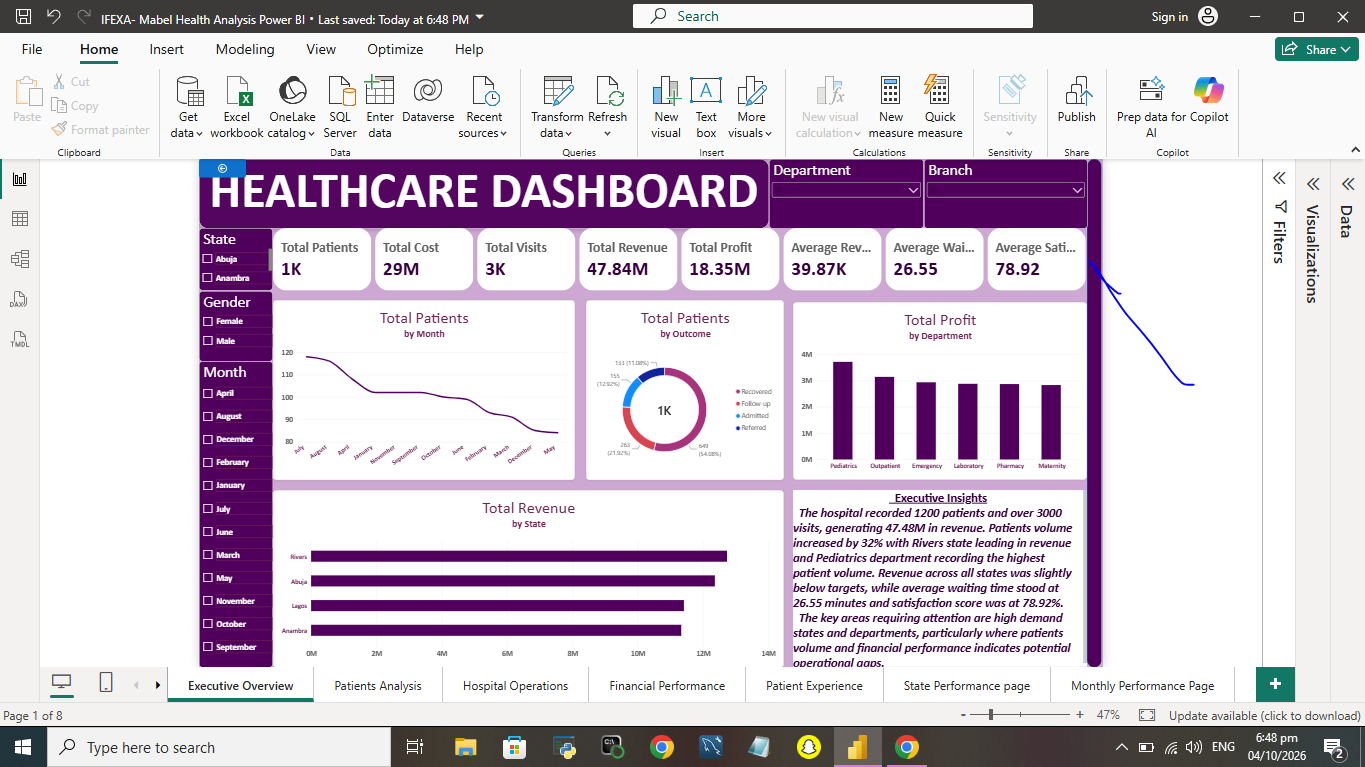

This screenshot's page, from the dashboard's own definition file:
{"tool":"powerbi","page":{"name":"Executive Overview","canvas":[1920,1080],"ordinal":0},"visuals":[{"type":"textbox","box":[0,0,1211.9,147.6],"z":0},{"type":"shape","box":[1888.1,0,31,1081],"z":1000},{"type":"slicer","fields":{"Values":["Patient_Visits.State"]},"box":[0,147.6,157.1,133.3],"z":2000},{"type":"slicer","fields":{"Values":["Date_Table.Month"]},"box":[0,428.6,157.1,652.4],"z":3000},{"type":"slicer","fields":{"Values":["Patient_Visits.Gender"]},"box":[0,281,157.1,150],"z":4000},{"type":"slicer","fields":{"Values":["Patient_Visits.Department"]},"box":[1211.9,0,328.6,147.6],"z":5000},{"type":"slicer","fields":{"Values":["Patient_Visits.Branch"]},"box":[1540.5,0,347.6,147.6],"z":6000},{"type":"cardVisual","fields":{"Data":["All Measures.Total Patients","All Measures.Total Cost","All Measures.Total Visits","All Measures.Total Revenue","All Measures.Total Profit","All Measures.Average Revenue per Patients","All Measures.Average Waiting Time","All Measures.Average Satisfaction Score"]},"box":[157.3,146.7,1730.6,133.9],"z":7000},{"type":"lineChart","fields":{"Category":["Date_Table.Month"],"Y":["All Measures.Total Patients"]},"box":[158.3,300,641.7,383.3],"z":8000},{"type":"barChart","fields":{"Category":["Patient_Visits.State"],"Y":["All Measures.Total Revenue"]},"box":[158.3,702.8,1086.1,377.8],"z":9000},{"type":"columnChart","fields":{"Category":["Patient_Visits.Department"],"Y":["All Measures.Total Profit"]},"box":[1262.8,304,625,377.8],"z":10000},{"type":"donutChart","fields":{"Category":["Patient_Visits.Outcome"],"Y":["All Measures.Total Patients"]},"box":[822.8,299.8,420.9,382.7],"z":11000},{"type":"textbox","box":[1262.8,703.7,625,376.3],"z":12000},{"type":"actionButton","box":[0,0,100,40],"z":13000}]}

Visuals, with their boxes on the page's 1920x1080 design canvas (x1, y1, x2, y2). These are canvas units, not pixel positions in the 1365x767 screenshot, which may show the page scaled, cropped or inside an application window:
textbox: pyautogui.locateOnScreen(0, 0, 1212, 148)
shape: pyautogui.locateOnScreen(1888, 0, 1919, 1081)
slicer - Patient_Visits.State: pyautogui.locateOnScreen(0, 148, 157, 281)
slicer - Date_Table.Month: pyautogui.locateOnScreen(0, 429, 157, 1081)
slicer - Patient_Visits.Gender: pyautogui.locateOnScreen(0, 281, 157, 431)
slicer - Patient_Visits.Department: pyautogui.locateOnScreen(1212, 0, 1540, 148)
slicer - Patient_Visits.Branch: pyautogui.locateOnScreen(1540, 0, 1888, 148)
cardVisual - All Measures.Total Patients x All Measures.Total Cost: pyautogui.locateOnScreen(157, 147, 1888, 281)
lineChart - Date_Table.Month x All Measures.Total Patients: pyautogui.locateOnScreen(158, 300, 800, 683)
barChart - Patient_Visits.State x All Measures.Total Revenue: pyautogui.locateOnScreen(158, 703, 1244, 1081)
columnChart - Patient_Visits.Department x All Measures.Total Profit: pyautogui.locateOnScreen(1263, 304, 1888, 682)
donutChart - Patient_Visits.Outcome x All Measures.Total Patients: pyautogui.locateOnScreen(823, 300, 1244, 682)
textbox: pyautogui.locateOnScreen(1263, 704, 1888, 1080)
actionButton: pyautogui.locateOnScreen(0, 0, 100, 40)
